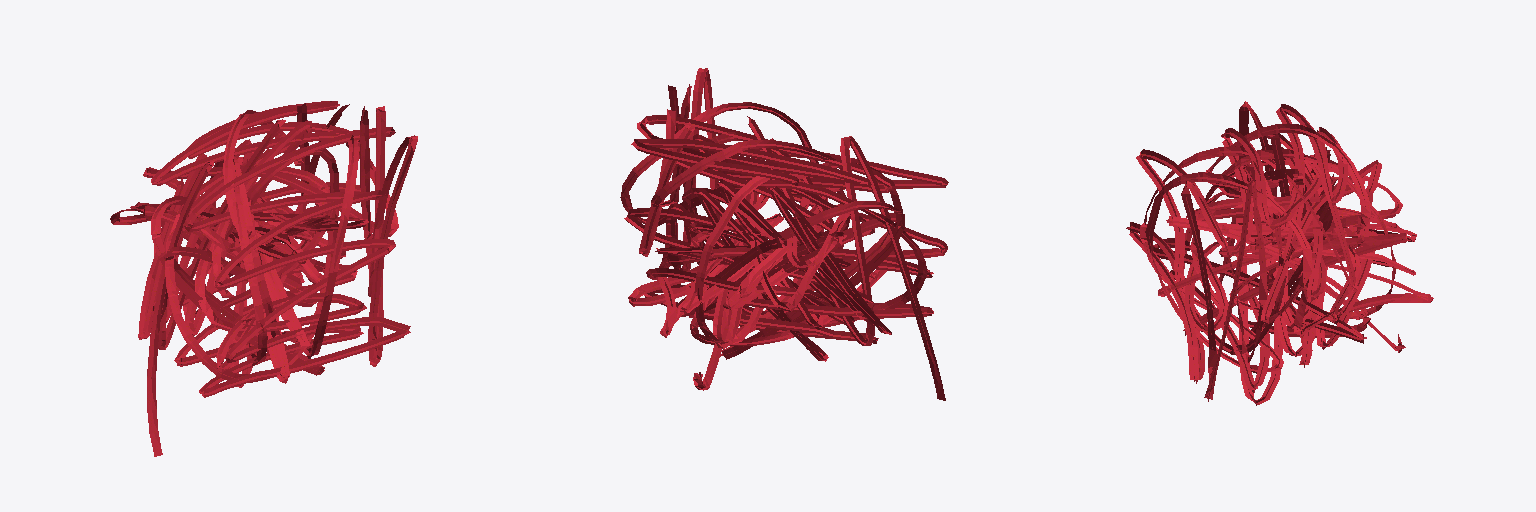
3 views of the same model, side by side, from view 1: azimuth 30°, elevation 25°; view 2: azimuth 150°, elevation 25°; view 3: azimuth 270°, elevation 25° (orthographic).
Bounding box in the file's own units: 0.6768 × 0.6414 × 0.6446.
Materials: 1 (1 with a texture image).